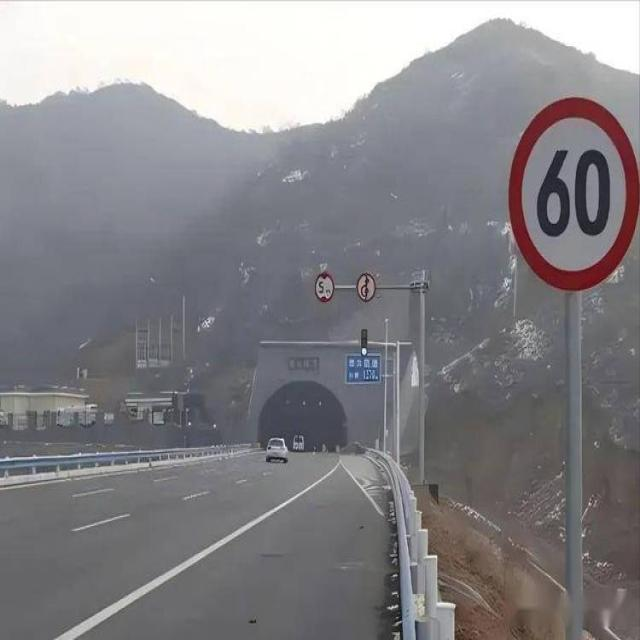speed limit 60: (506, 98, 639, 292)
